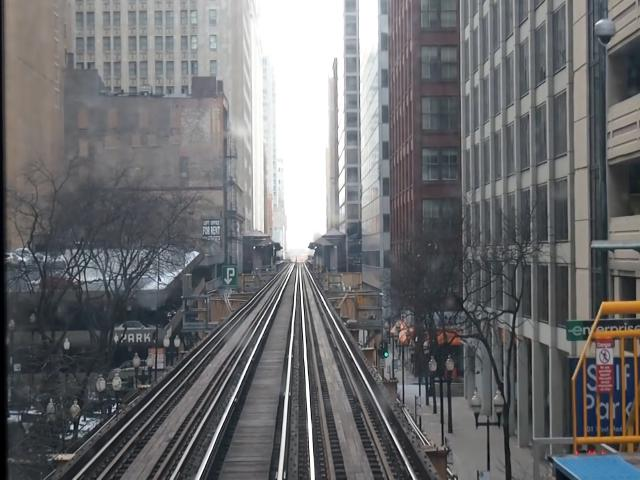signal light: (383, 341, 391, 361)
